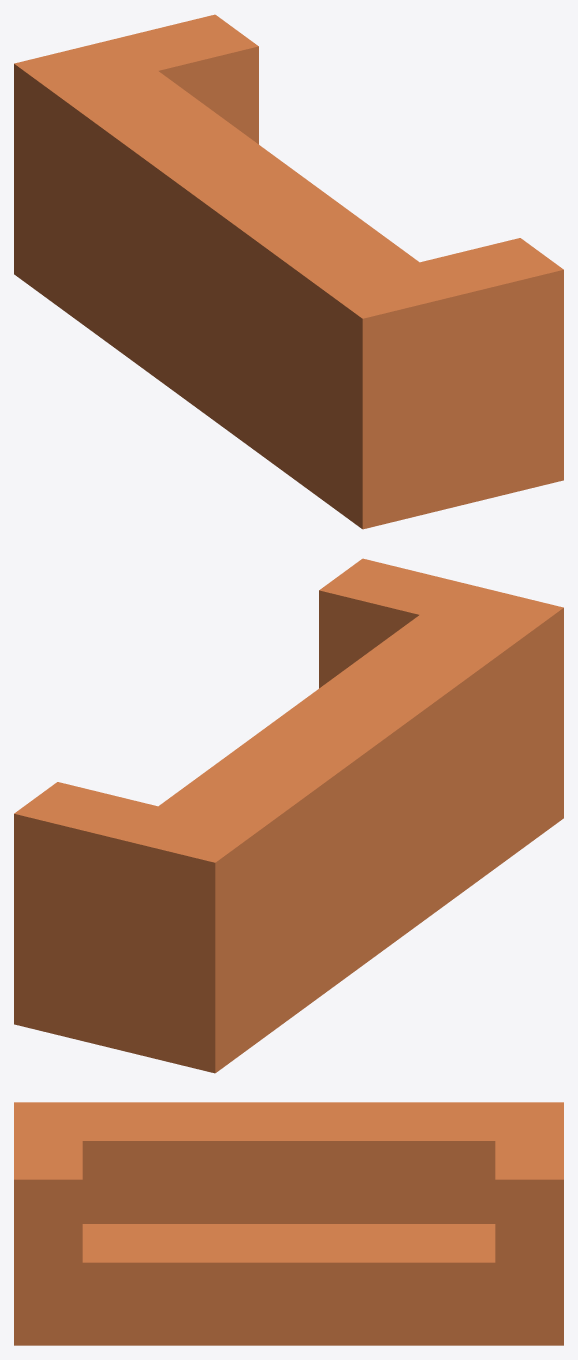
The model's file is BasicSofa.glb.
3 views of the same model, one above another, from view 1: azimuth 30°, elevation 25°; view 2: azimuth 150°, elevation 25°; view 3: azimuth 270°, elevation 25° (orthographic). The views are drawn at different scales.
Visible parts, largest first — view 1: Sofa; view 2: Sofa; view 3: Sofa.
Boxes of the visible parts, box(x1,y1,x2,y2) form: Sofa: box(14, 14, 563, 529); Sofa: box(14, 558, 563, 1073); Sofa: box(14, 1102, 563, 1345).
Bounding box in the file's own units: 2 × 2 × 6.
